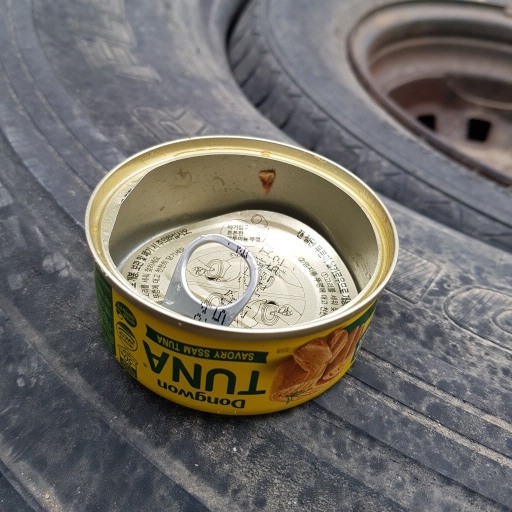Metal_1: (86, 129, 401, 413)
